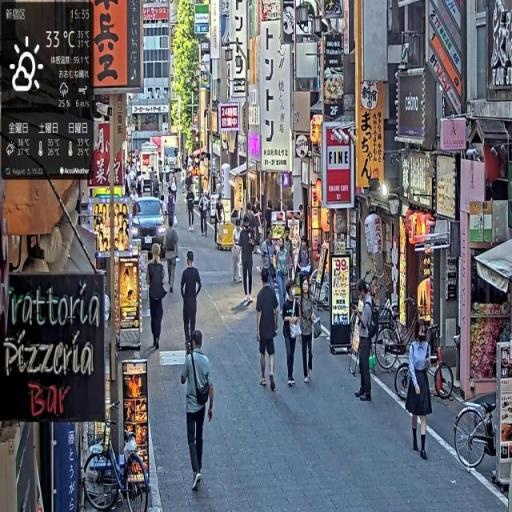person: (180, 327, 216, 499), (406, 319, 435, 460), (256, 267, 281, 394), (352, 279, 376, 404), (147, 243, 170, 354), (181, 251, 204, 356), (284, 282, 303, 390), (300, 279, 319, 386), (239, 216, 258, 307), (164, 220, 181, 294), (186, 181, 197, 229)
